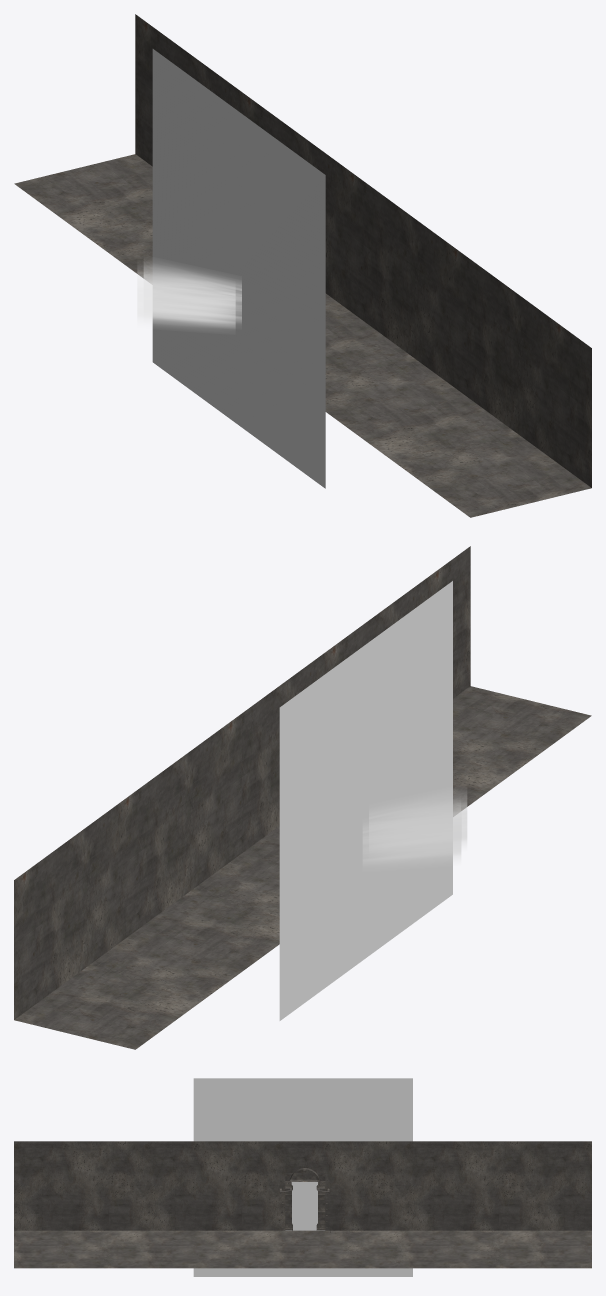
The picture shows the model from 3 angles, top to bottom: view 1: azimuth 30°, elevation 25°; view 2: azimuth 150°, elevation 25°; view 3: azimuth 270°, elevation 25°; orthographic projection. The views are drawn at different scales.
Visible parts, largest first — view 1: Cube.002, Plane, Plane.001, Plane.002; view 2: Cube.002, Plane, Plane.002, Plane.001; view 3: Cube.002, Plane, Base.
Boxes of the visible parts, x1=… form: Cube.002: x1=14, y1=14, x2=591, y2=517; Plane: x1=152, y1=49, x2=325, y2=488; Plane.001: x1=143, y1=263, x2=241, y2=323; Plane.002: x1=137, y1=268, x2=235, y2=328; Cube.002: x1=14, y1=546, x2=591, y2=1049; Plane: x1=279, y1=581, x2=452, y2=1020; Plane.002: x1=362, y1=805, x2=460, y2=865; Plane.001: x1=369, y1=791, x2=467, y2=849; Cube.002: x1=14, y1=1141, x2=591, y2=1268; Plane: x1=193, y1=1078, x2=412, y2=1276; Base: x1=279, y1=1168, x2=330, y2=1232.
Bounding box in the file's own units: 22.07 × 29.72 × 78.35.
3 materials, 2 textured.
